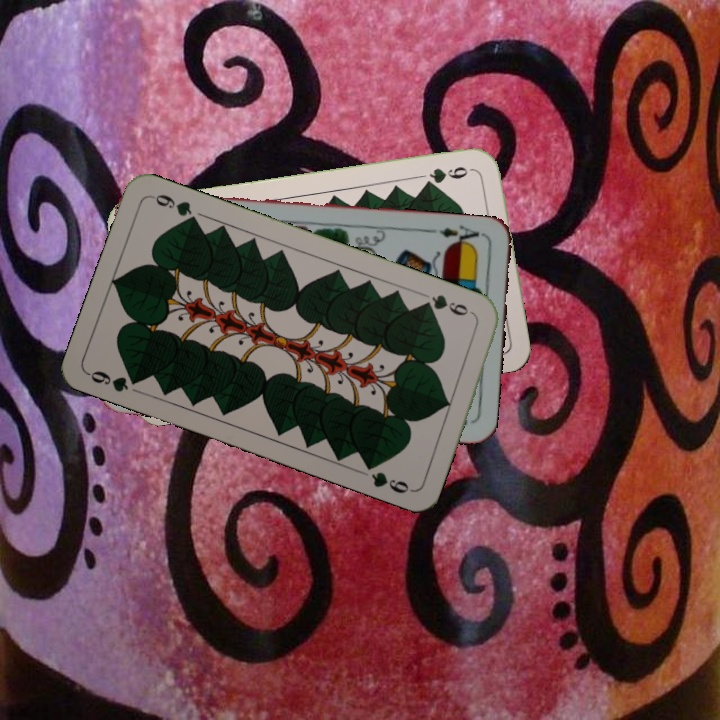EA: (435, 221, 487, 249)
G9: (84, 366, 145, 395), (418, 290, 478, 319), (419, 162, 477, 188)
